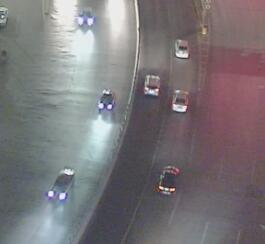car: (46, 167, 78, 202), (157, 165, 179, 196), (170, 88, 190, 113), (96, 87, 116, 111), (143, 72, 160, 96), (173, 37, 190, 58), (76, 8, 95, 26)
